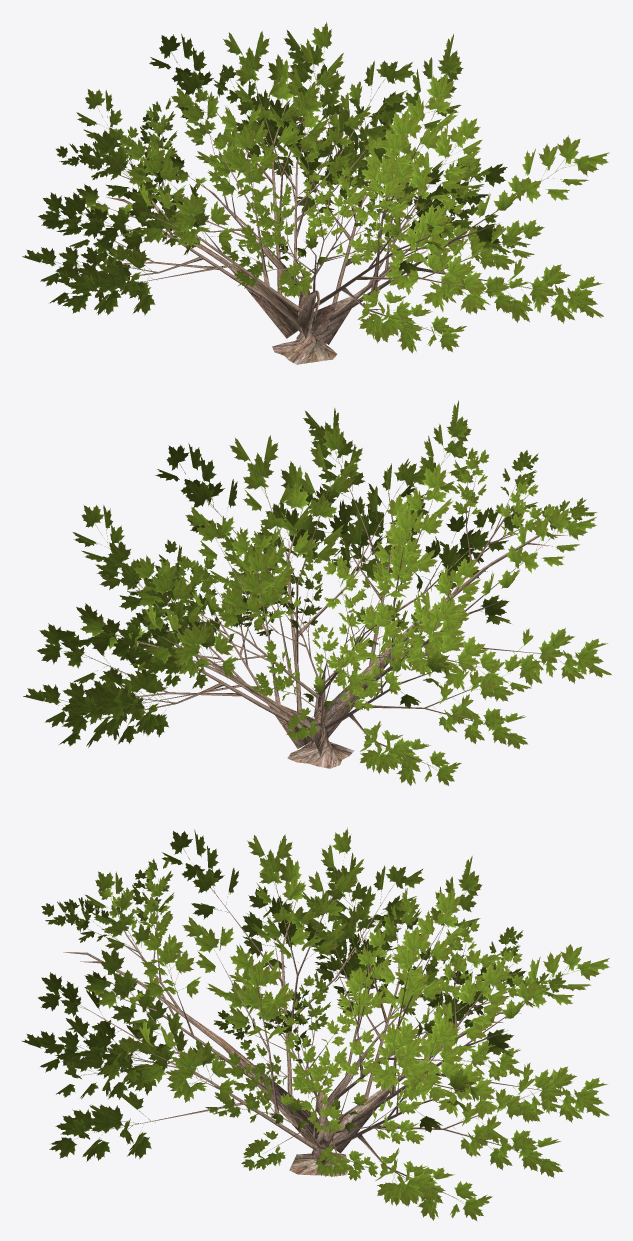
The model's file is bush11.obj.
3 renders of one model, top to bottom at view 1: azimuth 30°, elevation 25°; view 2: azimuth 150°, elevation 25°; view 3: azimuth 270°, elevation 25°, orthographic.
Visible parts, largest first — view 1: leaf maple, bark02; view 2: leaf maple, bark02; view 3: leaf maple, bark02.
Boxes of the visible parts, x1,y1,x2,y2 form: leaf maple: (22,22,608,353); bark02: (58,65,563,364); leaf maple: (23,400,611,785); bark02: (59,441,575,768); leaf maple: (22,827,609,1221); bark02: (54,866,573,1200).
Bounding box in the file's own units: 305 × 165 × 306.
2 materials, 2 textured.
